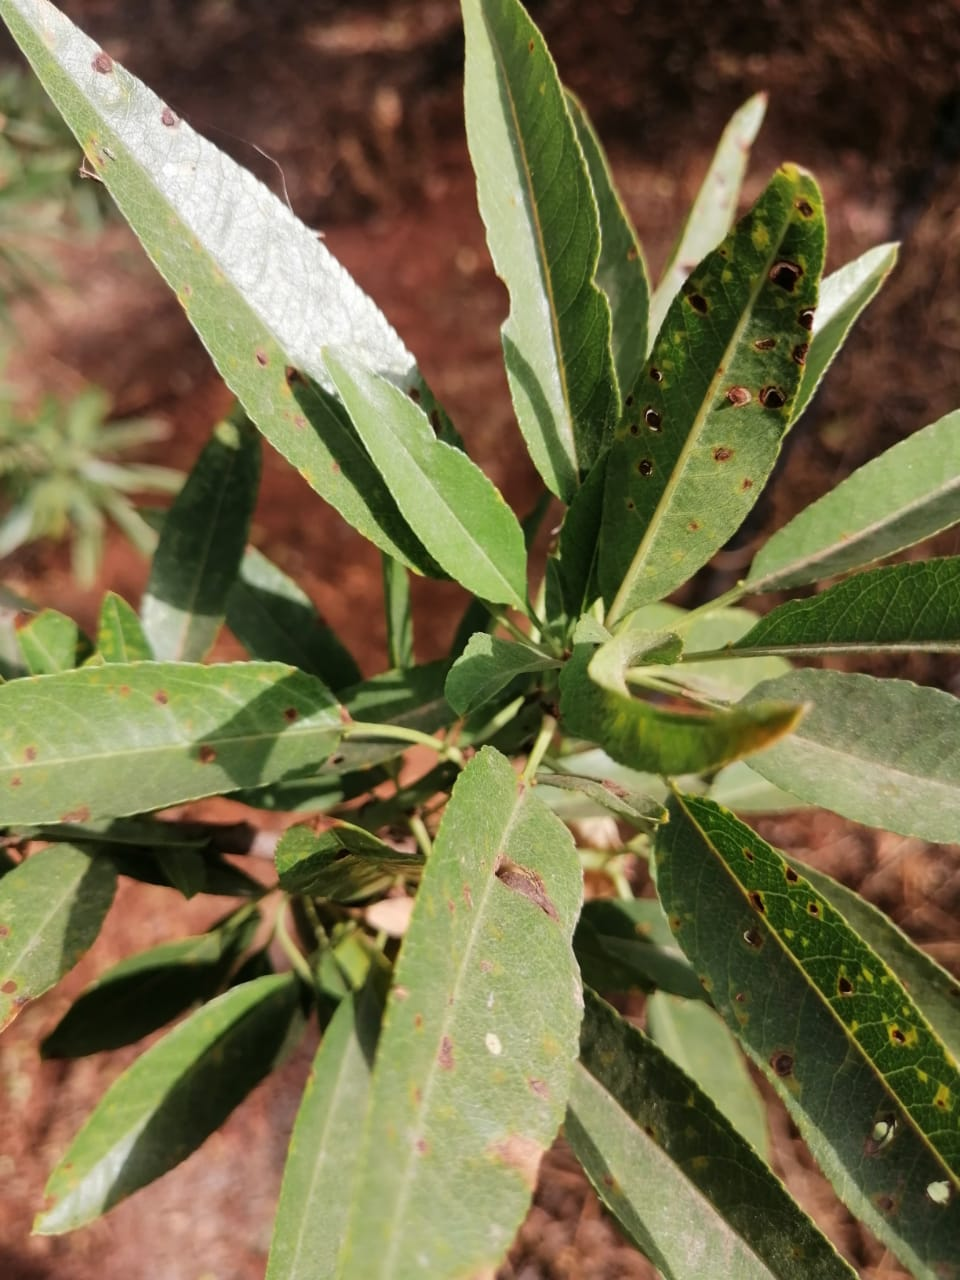coryneum: (1, 1, 505, 583), (653, 795, 960, 1280), (333, 742, 586, 1280), (598, 158, 826, 627), (1, 660, 360, 829)
